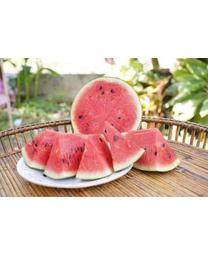watermelon: (20, 77, 182, 176)
